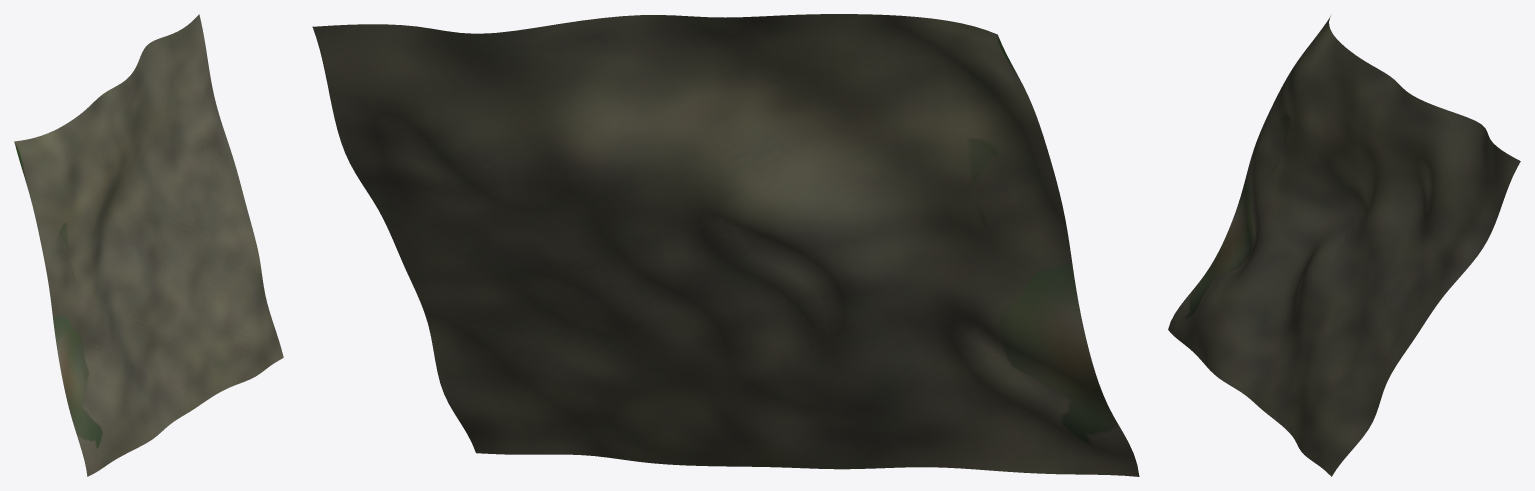
File: ground_mid_00_07.obj
3 renders of one model, left to right at view 1: azimuth 30°, elevation 25°; view 2: azimuth 150°, elevation 25°; view 3: azimuth 270°, elevation 25°, orthographic. The views are drawn at different scales.
Visible parts, largest first — view 1: ground_mid_00_07; view 2: ground_mid_00_07; view 3: ground_mid_00_07.
Boxes of the visible parts, box(x1,y1,x2,y2) form: ground_mid_00_07: box(14, 14, 283, 476); ground_mid_00_07: box(312, 14, 1139, 476); ground_mid_00_07: box(1168, 16, 1520, 476).
Bounding box in the file's own units: 200 × 200 × 203.
Materials: 1 (1 with a texture image).
